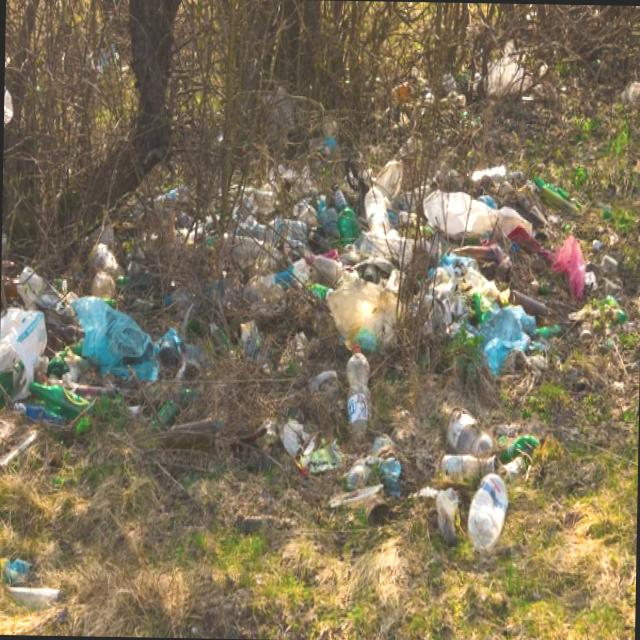garbage: (18, 99, 563, 620)
